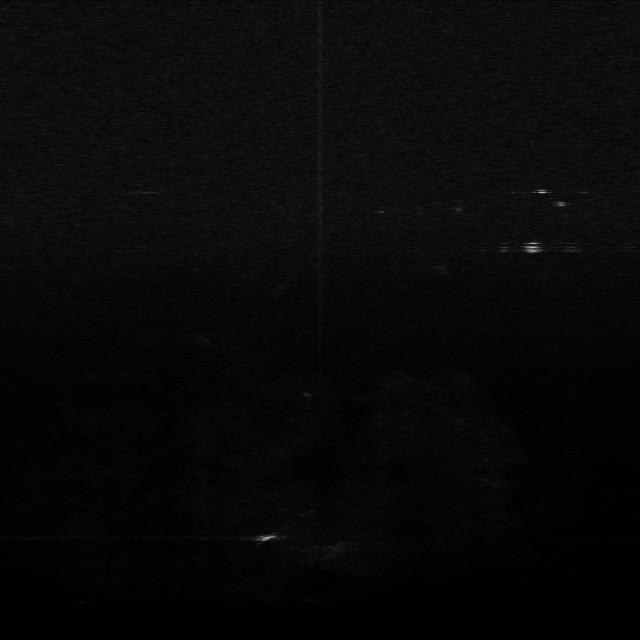rov: (520, 236, 546, 257)
